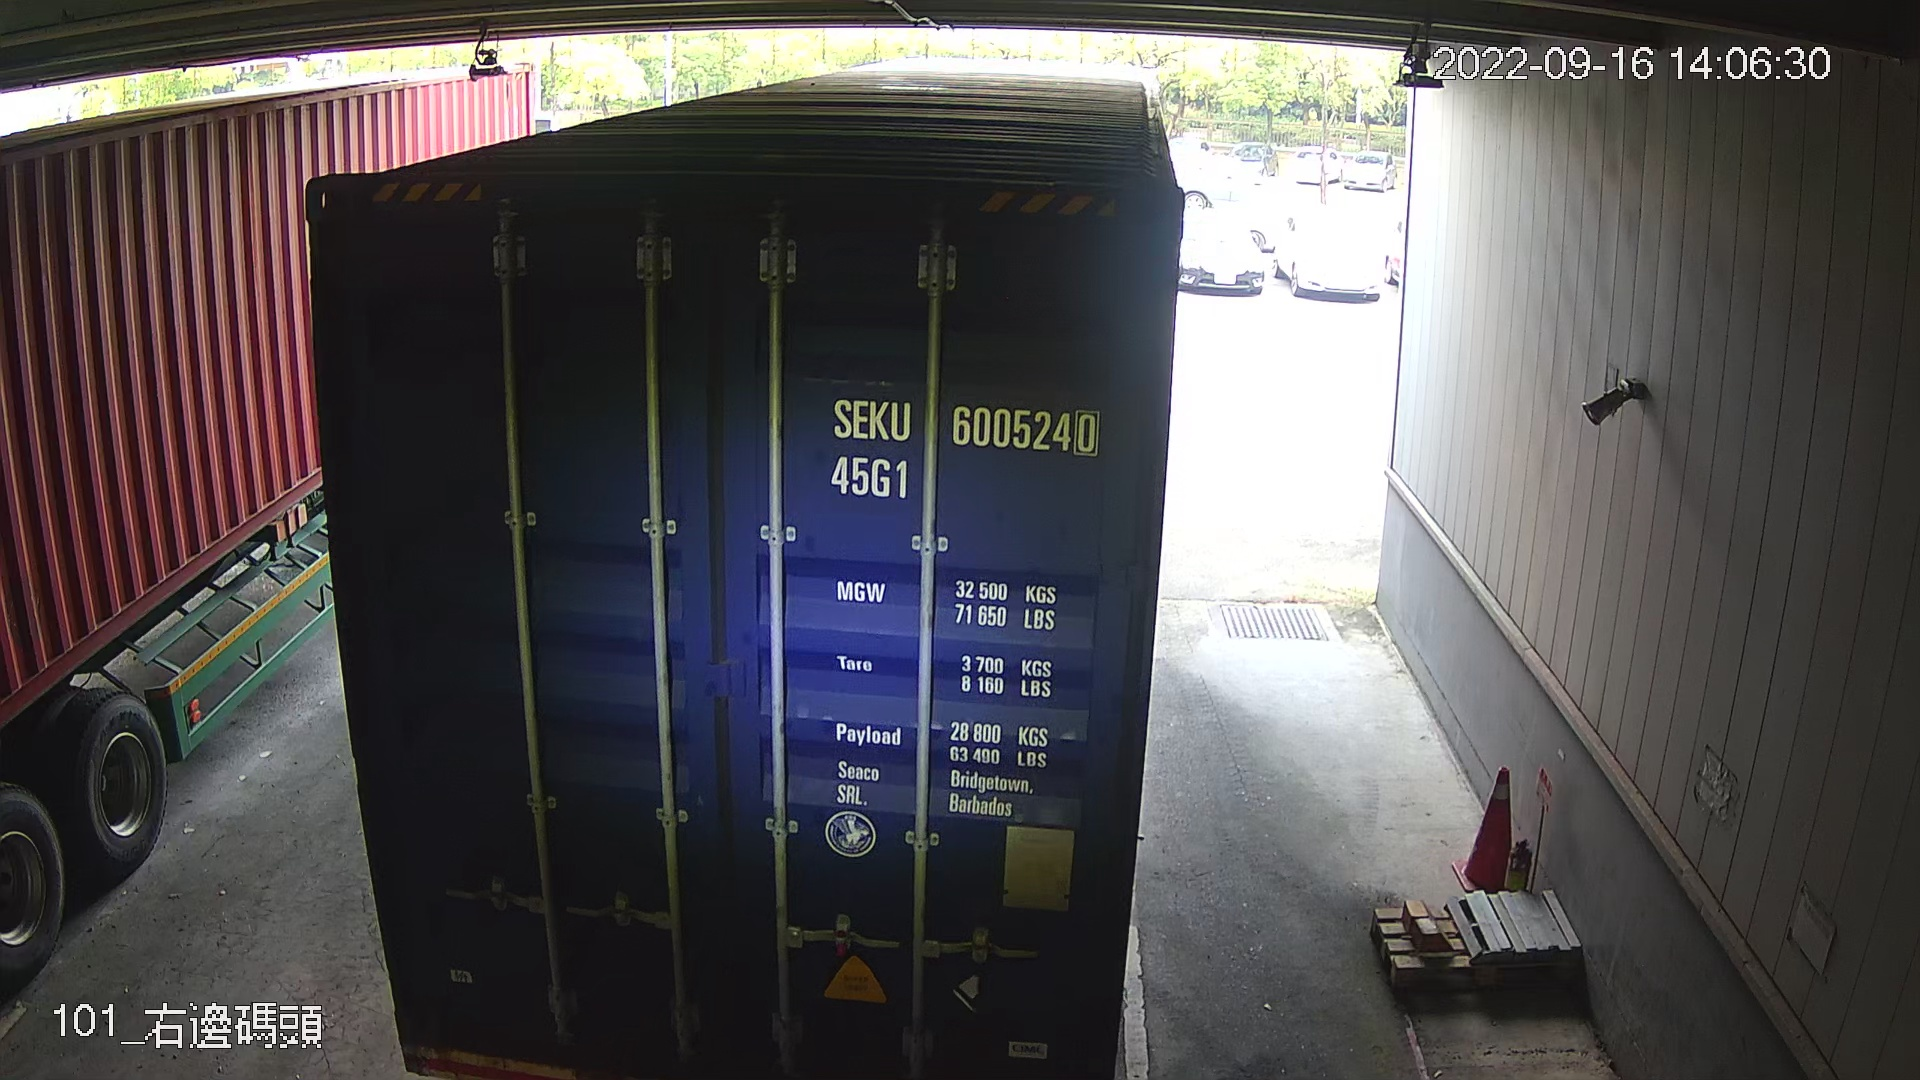container: (822, 392, 1109, 508)
